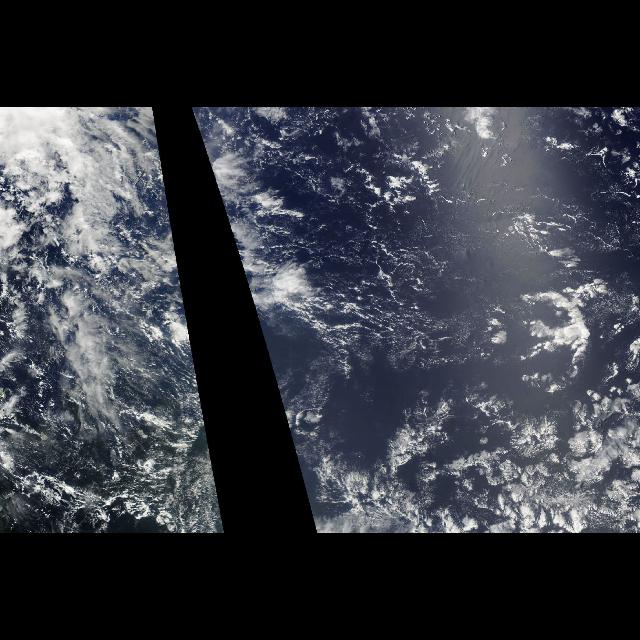Gravel: (264, 125, 524, 442)
